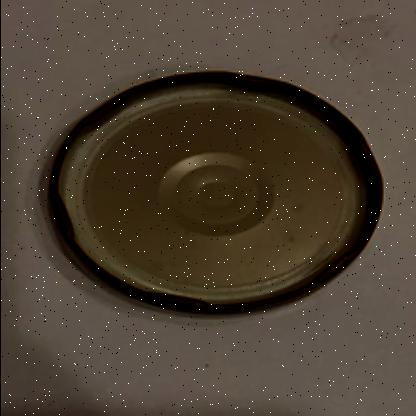Can: (49, 72, 383, 312)
